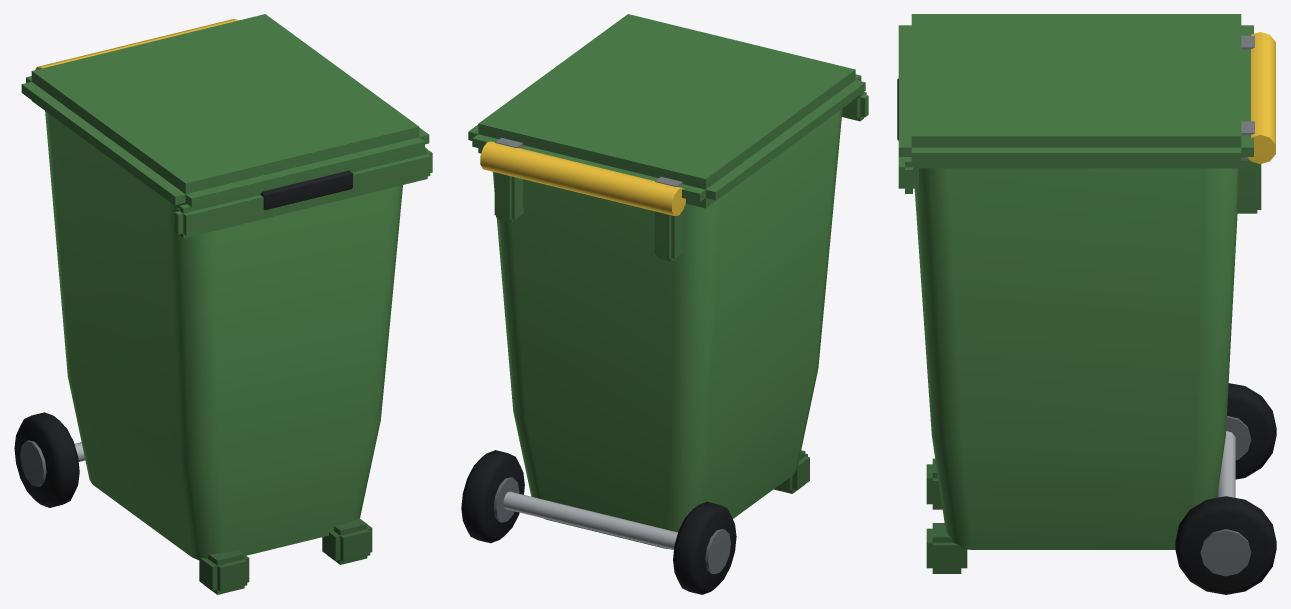
The model's file is SM_TrashBin_Wheeled_01.glb.
3 renders of one model, left to right at view 1: azimuth 30°, elevation 25°; view 2: azimuth 150°, elevation 25°; view 3: azimuth 270°, elevation 25°, orthographic. The views are drawn at different scales.
Visible parts, largest first — view 1: SM_TrashBin_Wheeled_01; view 2: SM_TrashBin_Wheeled_01; view 3: SM_TrashBin_Wheeled_01.
Boxes of the visible parts, x1,y1,x2,y2 form: SM_TrashBin_Wheeled_01: [14, 14, 432, 594]; SM_TrashBin_Wheeled_01: [461, 14, 868, 594]; SM_TrashBin_Wheeled_01: [897, 14, 1276, 594].
Size of the model in its own units: 0.62 by 1 by 0.748.
Materials: 1 (1 with a texture image).
